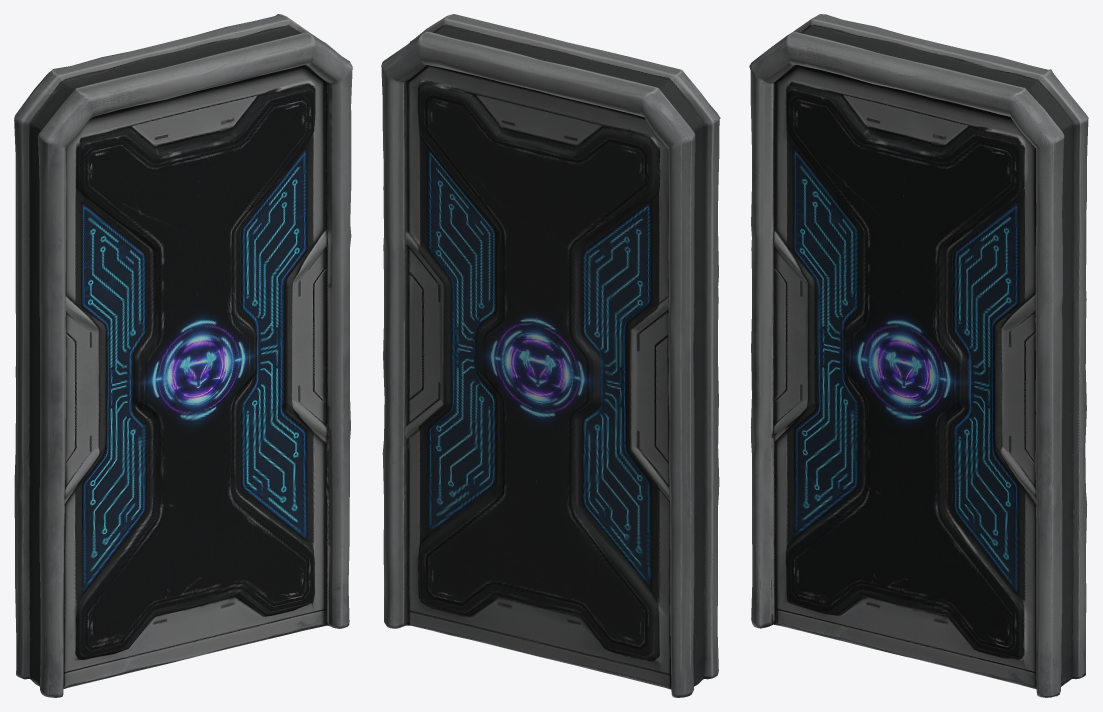
The model's file is Meshy_AI_futuristic_door_0903110023_texture.glb.
The picture shows the model from 3 angles, left to right: view 1: azimuth 30°, elevation 25°; view 2: azimuth 150°, elevation 25°; view 3: azimuth 330°, elevation 25°; orthographic projection.
Parts seen in each view (by area): view 1: mesh_node; view 2: mesh_node; view 3: mesh_node.
Part boxes in pixels (<box>): mesh_node: <box>14,14,352,697</box>; mesh_node: <box>381,14,720,697</box>; mesh_node: <box>749,14,1088,697</box>.
Size of the model in its own units: 0.5469 by 1 by 0.1243.
1 material, 1 textured.
